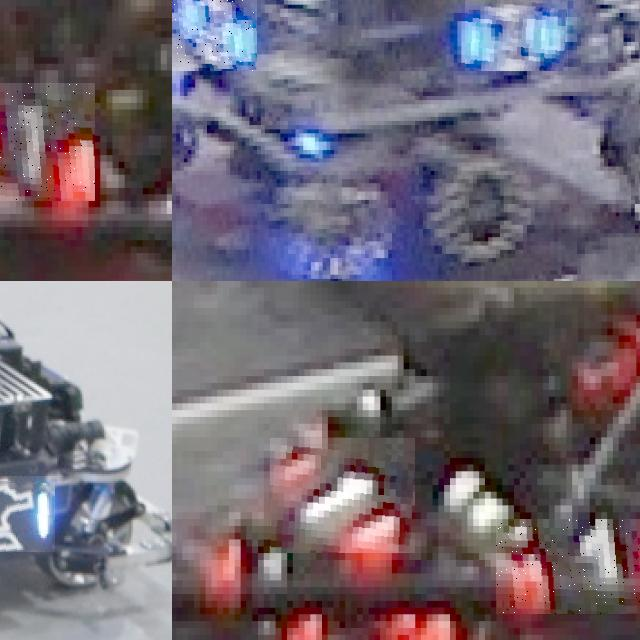B2: (465, 0, 569, 71), (172, 0, 257, 71)
Bs: (0, 476, 55, 552)
R1: (270, 438, 415, 553), (199, 519, 316, 640), (496, 518, 640, 614), (0, 83, 94, 200)
